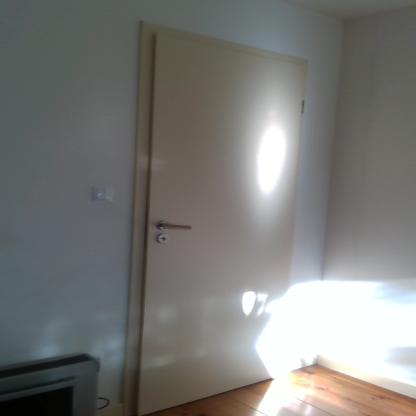closed: (124, 28, 329, 399)
